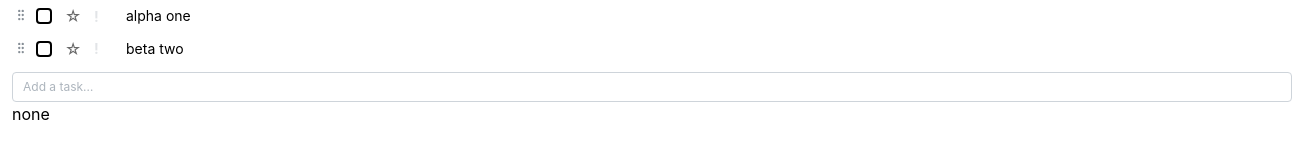
Test: TaskList keyboard drag › a mouse drag starts anywhere on the row, the title included, but not on its controls
This screenshot has width=1304, height=160.
Press the mouse on the button named "State of “beta two”" at (44, 49), box [33,38,55,60]
Press the mouse on the button "beta two" at (155, 49), box [126,39,1282,59]
Press the mouse on the button "beta two" at (155, 49), box [126,39,1282,59]
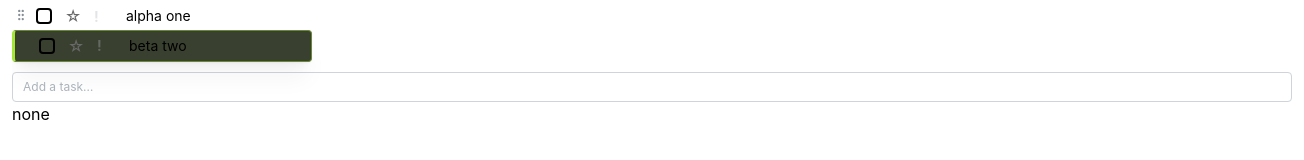
Expected: the element with test id "task-drag-overlay" shows "beta two", [129,37,187,54]
